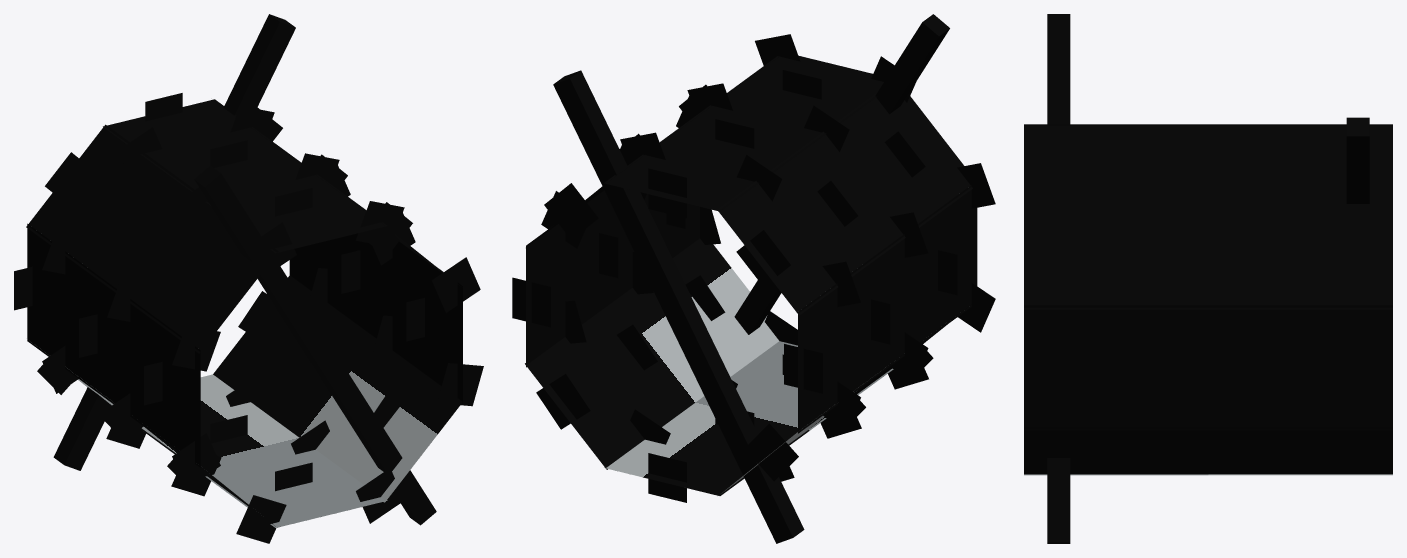
The model's file is barbed_wire.obj.
3 renders of one model, left to right at view 1: azimuth 30°, elevation 25°; view 2: azimuth 150°, elevation 25°; view 3: azimuth 270°, elevation 25°, orthographic. The views are drawn at different scales.
Parts seen in each view (by area): view 1: wire2, wire6, wire3, wire1, wire7, wire5, support1, support2, navajas6m6, navajas6m5, navajas6, navajas6m4 (+30 smaller); view 2: wire2, wire6, wire3, wire1, support2, wire7, wire5, support1, navajas1m6, navajas1, navajas1m2, navajas1m7 (+28 smaller); view 3: wire8, wire7, wire1, wire6, support1, support2, wire5, wire2.
Boxes of the visible parts, <box> form: wire2: <box>26,124,278,353</box>; wire6: <box>213,275,463,502</box>; wire3: <box>27,223,200,467</box>; wire1: <box>103,99,387,253</box>; wire7: <box>289,233,462,403</box>; wire5: <box>140,374,387,527</box>; support1: <box>194,166,436,525</box>; support2: <box>53,14,295,470</box>; navajas6m6: <box>236,495,286,543</box>; navajas6m5: <box>432,257,480,312</box>; navajas6: <box>356,201,404,246</box>; navajas6m4: <box>172,433,220,488</box>; wire2: <box>717,92,972,315</box>; wire6: <box>525,238,778,469</box>; wire3: <box>798,185,977,433</box>; wire1: <box>604,55,883,211</box>; support2: <box>553,70,804,543</box>; wire7: <box>526,190,699,367</box>; wire5: <box>604,341,893,495</box>; support1: <box>734,14,949,334</box>; navajas1m6: <box>744,423,798,481</box>; navajas1: <box>544,183,598,239</box>; navajas1m2: <box>648,168,686,218</box>; navajas1m7: <box>648,453,686,502</box>; wire8: <box>1024,179,1392,309</box>; wire7: <box>1024,305,1392,430</box>; wire1: <box>1024,124,1392,182</box>; wire6: <box>1024,427,1392,474</box>; support1: <box>1047,14,1070,543</box>; support2: <box>1346,117,1369,203</box>; wire5: <box>1024,474,1392,475</box>; wire2: <box>1024,124,1392,125</box>.
Bounding box in the file's own units: 1.04 × 1.33 × 1.
